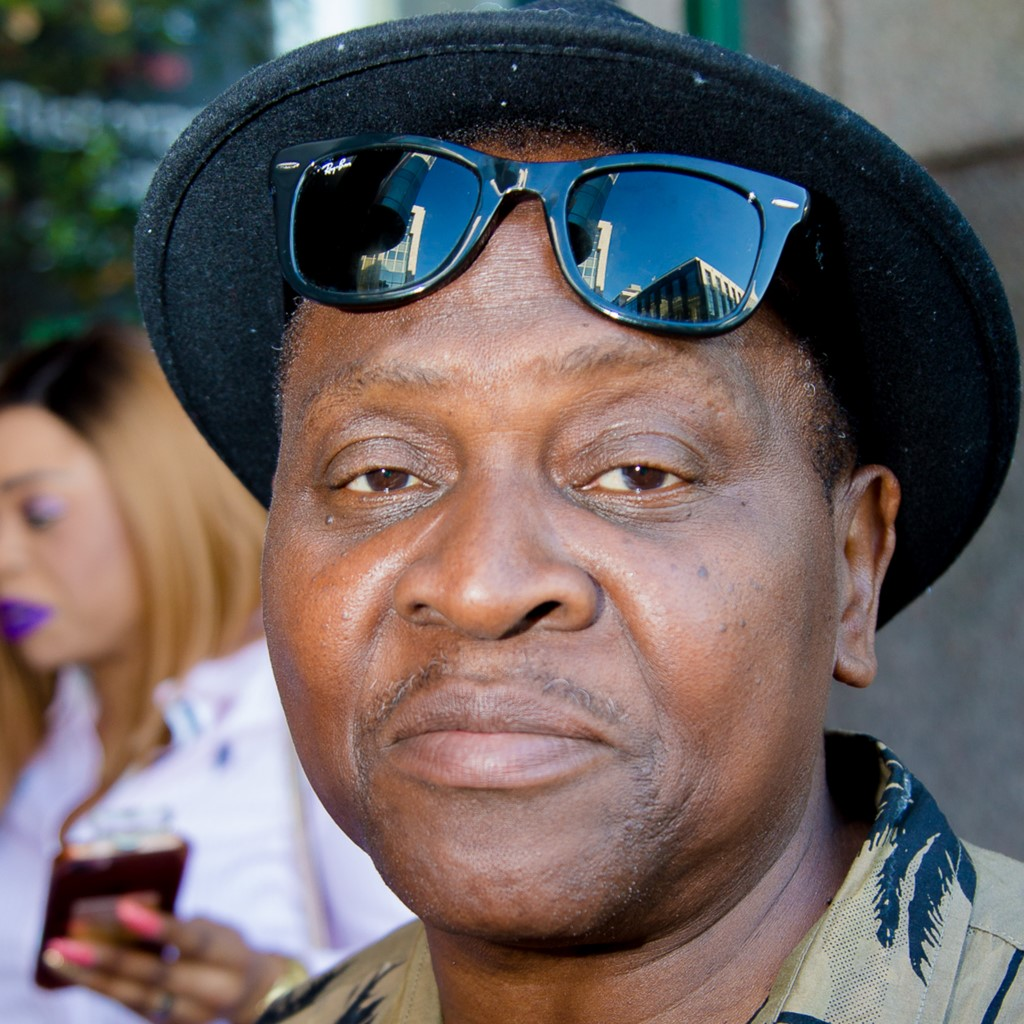sin_mascara: (279, 148, 851, 941)
